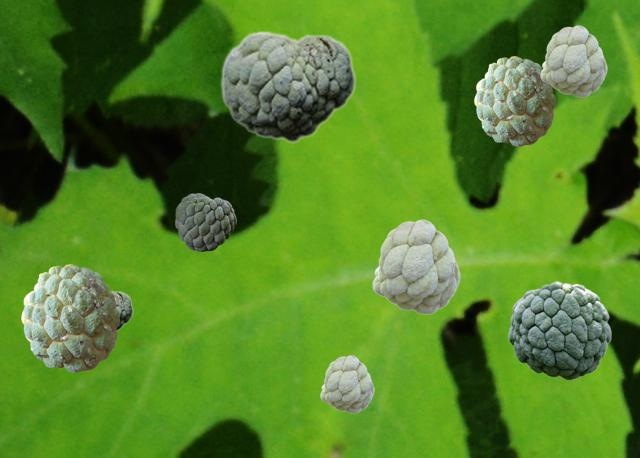atis: (220, 30, 355, 142), (21, 264, 118, 371), (508, 281, 610, 379), (372, 219, 459, 313), (474, 56, 554, 145), (540, 25, 606, 96), (175, 193, 235, 250), (320, 355, 373, 412), (111, 290, 132, 330)
